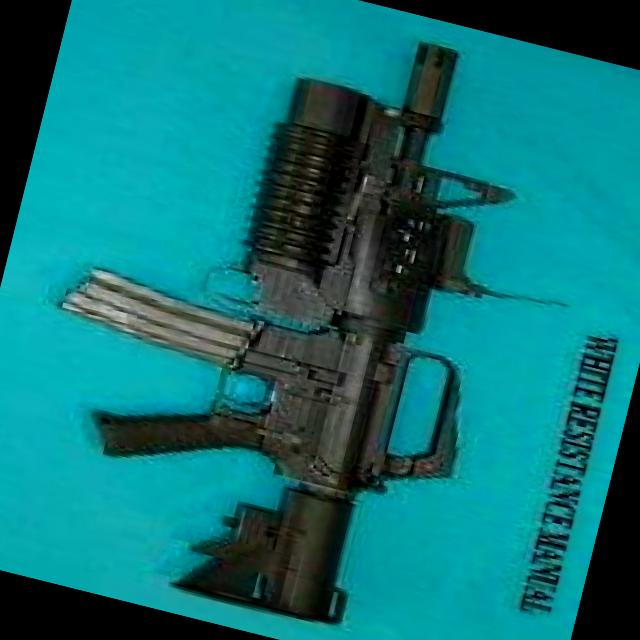long weapon: (4, 0, 574, 639)
